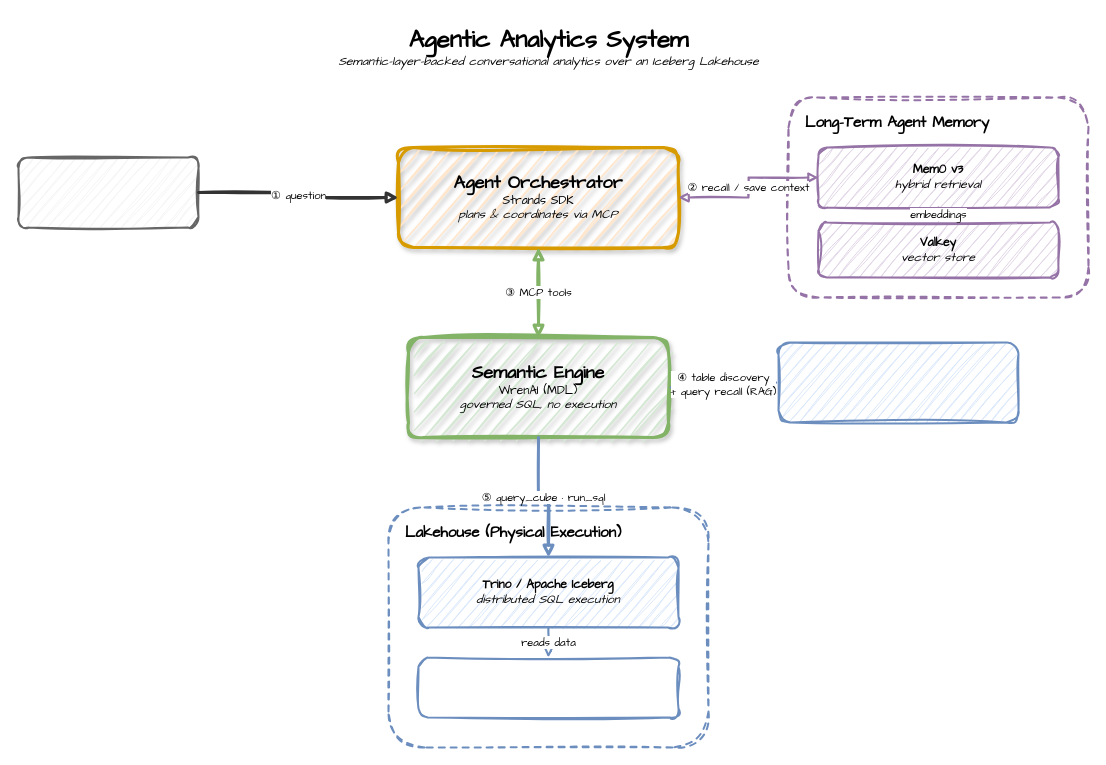
This 1106x765 diagram has some shape labels left out. The shapes that lost their labels are listed below. From the top down, each one's centre as x and y in pixels, then its label:
the point at 108,192: User Request natural language
the point at 898,382: Semantic Retrieval Index LanceDB table + query-example retrieval (RAG)
the point at 548,687: SeaweedFS S3 object storage
